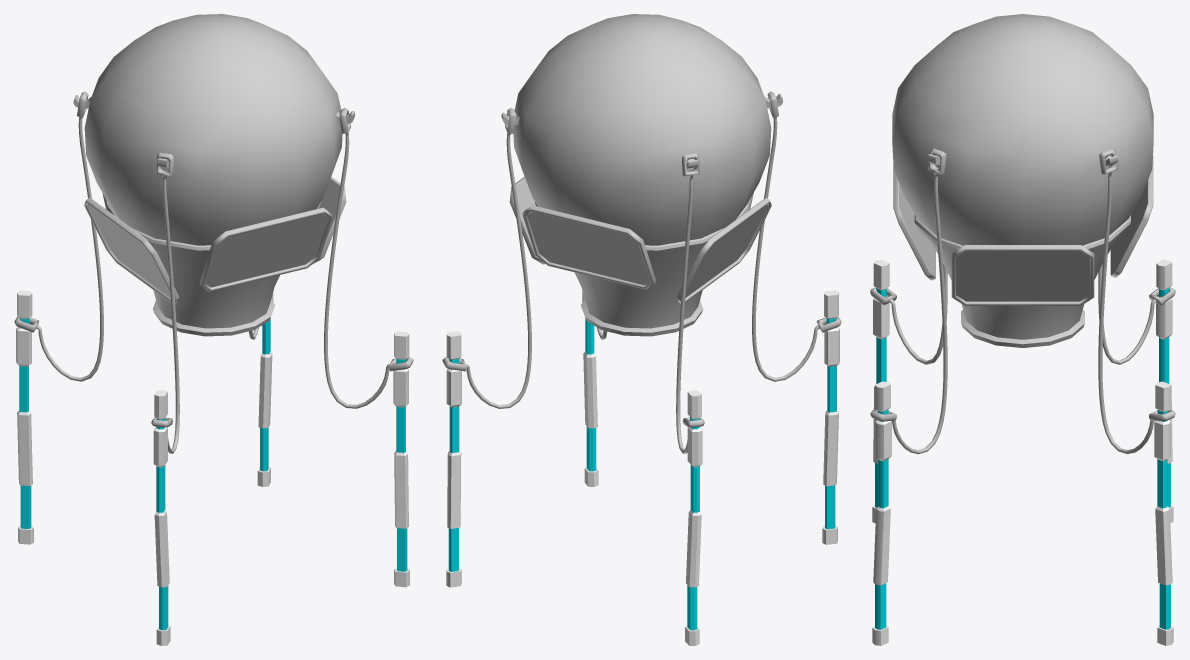
Rendered from BallonComplet.fbx.
The picture shows the model from 3 angles, left to right: view 1: azimuth 30°, elevation 25°; view 2: azimuth 150°, elevation 25°; view 3: azimuth 270°, elevation 25°; orthographic projection. The views are drawn at different scales.
Visible parts, largest first — view 1: Ballon, Ecran_Ballon_2, Ecran_Ballon_3, Pied_Ballon_4, Pied_Ballon_2, Pied_Ballon_3, Corde_Ballon_exp, Corde_Ballon_exp2, Pied_Ballon, Corde_Ballon_exp1, Ecran_Ballon; view 2: Ballon, Ecran_Ballon_4, Ecran_Ballon_3, Pied_Ballon, Pied_Ballon_3, Pied_Ballon_4, Pied_Ballon_2, Corde_Ballon_exp3, Corde_Ballon_exp1, Corde_Ballon_exp2, Ecran_Ballon; view 3: Ballon, Ecran_Ballon, Pied_Ballon, Pied_Ballon_2, Corde_Ballon_exp3, Corde_Ballon_exp, Pied_Ballon_3, Pied_Ballon_4, Ecran_Ballon_2, Ecran_Ballon_4, Corde_Ballon_exp1, Corde_Ballon_exp2.
Boxes of the visible parts, x1,y1,x2,y2 form: Ballon: (73,14,355,336); Ecran_Ballon_2: (199,207,333,291); Ecran_Ballon_3: (84,197,178,303); Pied_Ballon_4: (16,290,33,544); Pied_Ballon_2: (393,331,409,587); Pied_Ballon_3: (153,390,170,645); Corde_Ballon_exp: (324,107,413,408); Corde_Ballon_exp2: (14,91,103,381); Pied_Ballon: (257,292,273,486); Corde_Ballon_exp1: (151,152,179,453); Ecran_Ballon: (312,177,346,264); Ballon: (501,14,783,336); Ecran_Ballon_4: (522,205,656,289); Ecran_Ballon_3: (677,198,771,303); Pied_Ballon: (446,331,461,587); Pied_Ballon_3: (822,290,839,544); Pied_Ballon_4: (685,390,702,645); Pied_Ballon_2: (582,291,598,486); Corde_Ballon_exp3: (442,107,531,408); Corde_Ballon_exp1: (752,91,841,381); Corde_Ballon_exp2: (676,152,704,453); Ecran_Ballon: (509,177,545,264); Ballon: (892,14,1153,347); Ecran_Ballon: (951,245,1094,305); Pied_Ballon: (1154,381,1173,645); Pied_Ballon_2: (872,381,891,645); Corde_Ballon_exp3: (1098,148,1175,454); Corde_Ballon_exp: (870,148,947,454); Pied_Ballon_3: (872,259,889,523); Pied_Ballon_4: (1156,260,1173,523); Ecran_Ballon_2: (893,166,935,280); Ecran_Ballon_4: (1110,156,1153,277); Corde_Ballon_exp1: (870,264,947,364); Corde_Ballon_exp2: (1098,264,1175,364).
Bounding box in the file's own units: 2.19 × 4.3 × 2.14.
